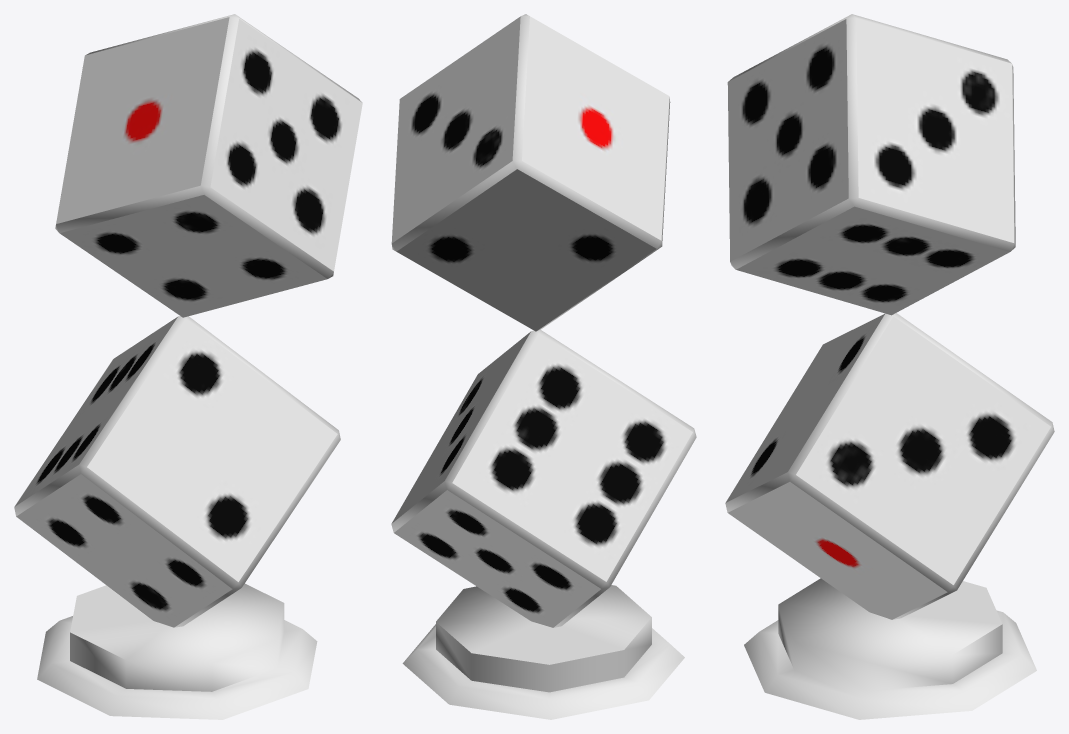
The model's file is Dice_statue.fbx.
3 views of the same model, side by side, from view 1: azimuth 30°, elevation 25°; view 2: azimuth 150°, elevation 25°; view 3: azimuth 270°, elevation 25° (orthographic). The views are drawn at different scales.
Parts seen in each view (by area): view 1: Dice_d6_LP; view 2: Dice_d6_LP; view 3: Dice_d6_LP.
Boxes of the visible parts, x1,y1,x2,y2 form: Dice_d6_LP: (14, 14, 362, 719); Dice_d6_LP: (391, 14, 696, 719); Dice_d6_LP: (725, 14, 1054, 719).
Bounding box in the file's own units: 846 × 1781 × 804.
1 material, 1 textured.
